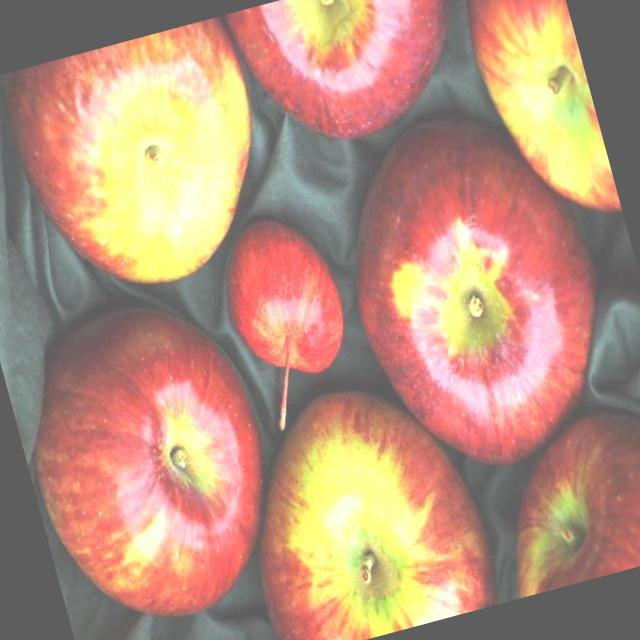Apple: (315, 89, 637, 493), (0, 282, 301, 640), (0, 14, 290, 312), (216, 362, 504, 640), (225, 0, 482, 163), (447, 0, 621, 237), (208, 204, 369, 436), (477, 393, 640, 598)
